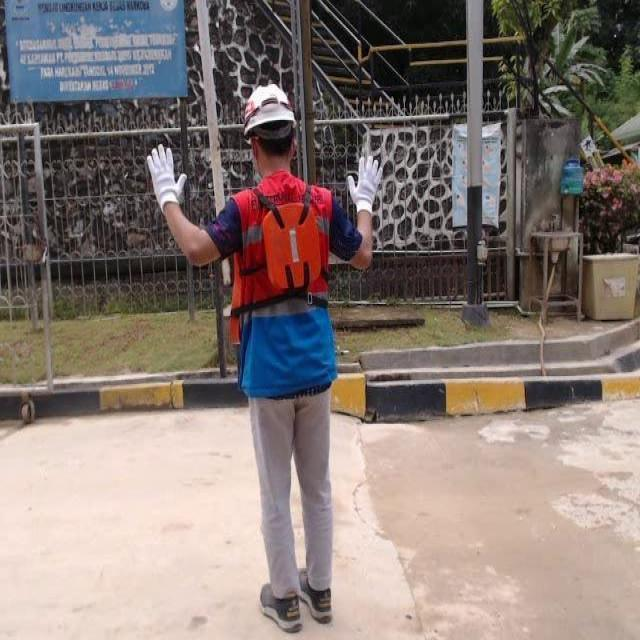Vest: (254, 195, 328, 302)
